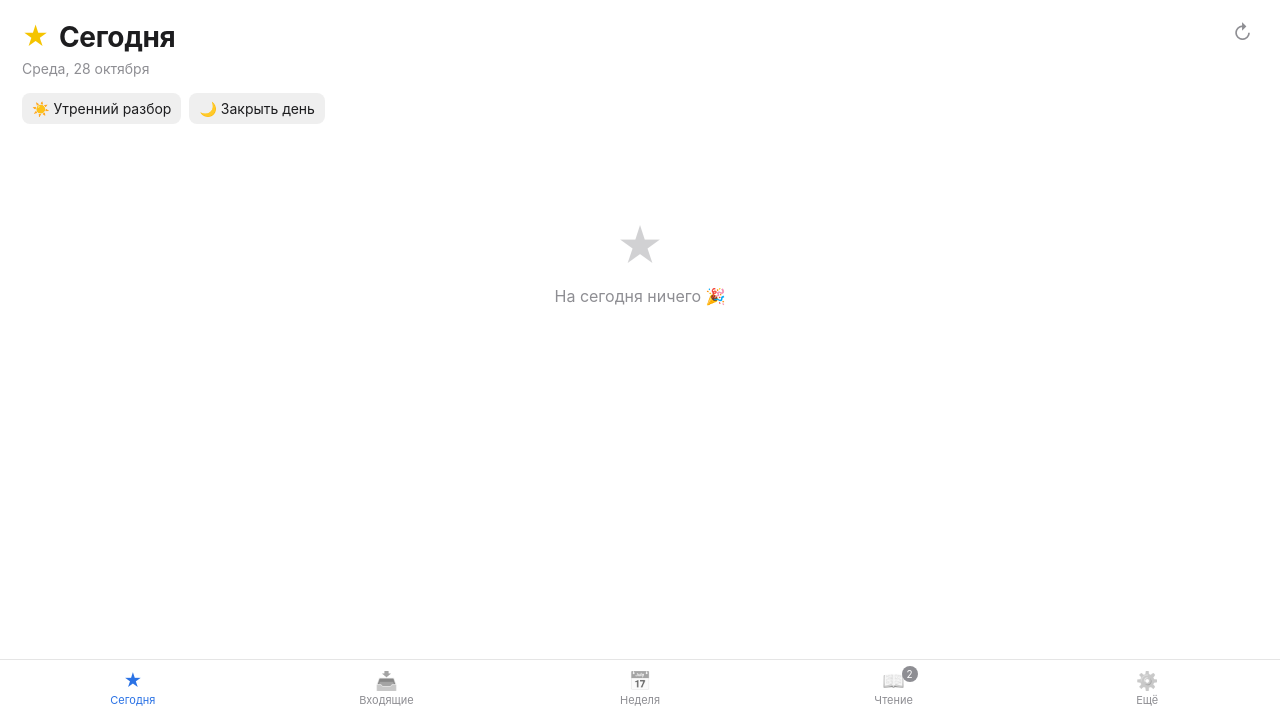
Чтение › счётчик на вкладке и список
The image size is (1280, 720).
Click the tab "📖 Чтение 2" at (894, 689), box [767, 666, 1020, 712]
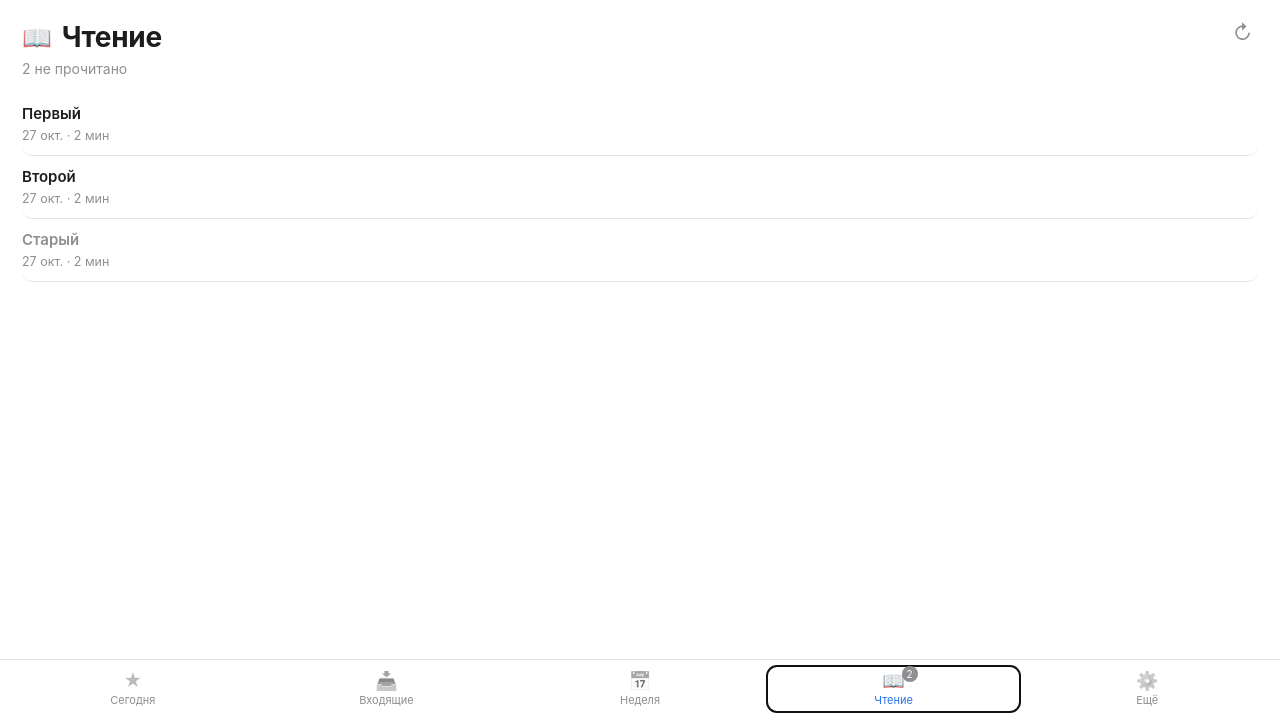
Result: the text "2 не прочитано" is shown at [22, 60, 127, 77]
